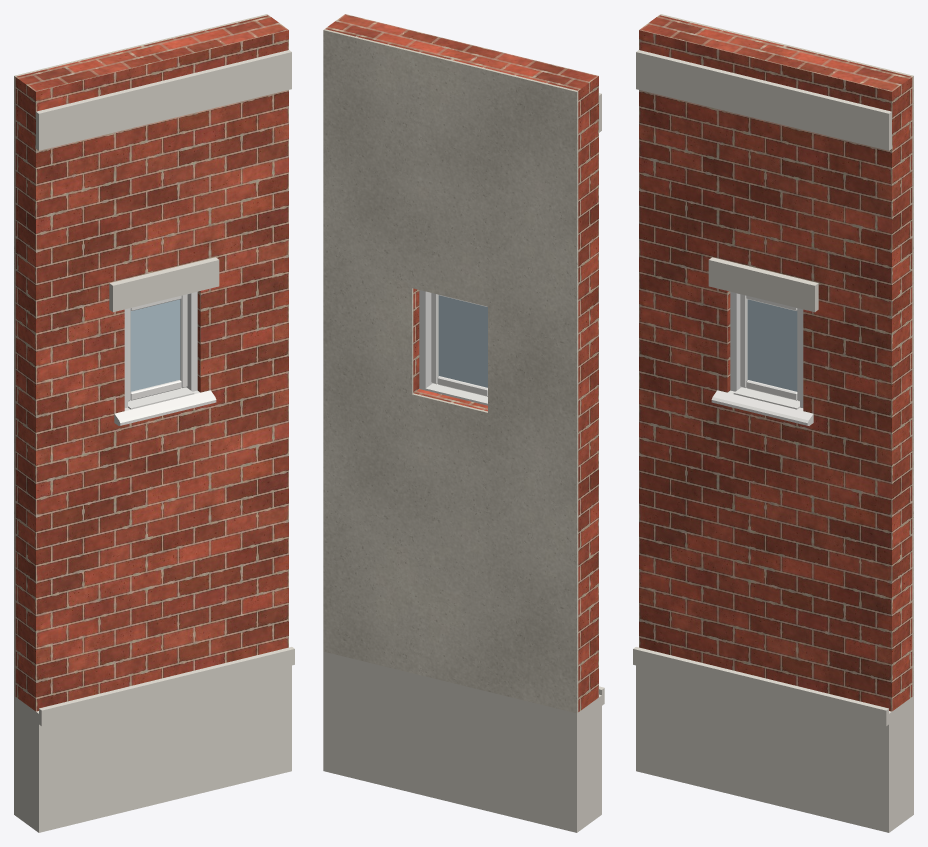
The model's file is wall_small.glb.
The picture shows the model from 3 angles, left to right: view 1: azimuth 30°, elevation 25°; view 2: azimuth 150°, elevation 25°; view 3: azimuth 330°, elevation 25°; orthographic projection.
Visible parts, largest first — view 1: wall_small_brick, wall_small_lime, wall_small_glass, wall_small_trim, wall_small_plaster, wall_small_sash, wall_small_frame; view 2: wall_small_plaster, wall_small_lime, wall_small_brick, wall_small_glass, wall_small_frame, wall_small_sash, wall_small_trim; view 3: wall_small_brick, wall_small_lime, wall_small_glass, wall_small_trim, wall_small_plaster, wall_small_sash, wall_small_frame.
Part boxes in pixels (x1,y1,x2,y2): wall_small_brick: [15, 15, 288, 711]; wall_small_lime: [14, 50, 294, 832]; wall_small_glass: [130, 299, 180, 391]; wall_small_trim: [114, 387, 216, 425]; wall_small_plaster: [14, 14, 267, 696]; wall_small_sash: [128, 294, 187, 401]; wall_small_frame: [124, 291, 197, 407]; wall_small_plaster: [323, 29, 578, 713]; wall_small_lime: [323, 93, 604, 832]; wall_small_brick: [325, 14, 598, 711]; wall_small_glass: [438, 295, 487, 387]; wall_small_frame: [419, 290, 432, 390]; wall_small_sash: [431, 293, 487, 396]; wall_small_trim: [425, 383, 487, 405]; wall_small_brick: [639, 15, 912, 711]; wall_small_lime: [633, 50, 913, 832]; wall_small_glass: [747, 299, 797, 391]; wall_small_trim: [711, 387, 813, 425]; wall_small_plaster: [660, 14, 913, 696]; wall_small_sash: [740, 294, 799, 401]; wall_small_frame: [730, 291, 803, 407].
Size of the model in its own units: 2 by 5.58 by 0.38.
7 materials, 2 textured.
